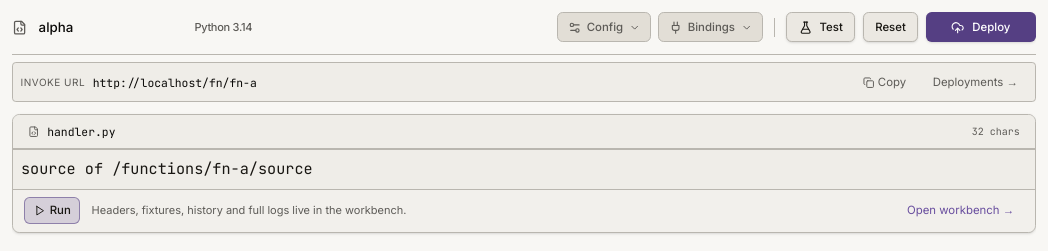
keep-alive route scoping › Editor keeps an unsaved buffer when the route loses :name, and reloads only for a different function
The width and height of the screenshot is (1048, 251).
Click the text "source of /functions/fn-a/source".
click(167, 168)  # box [21,158,313,179]
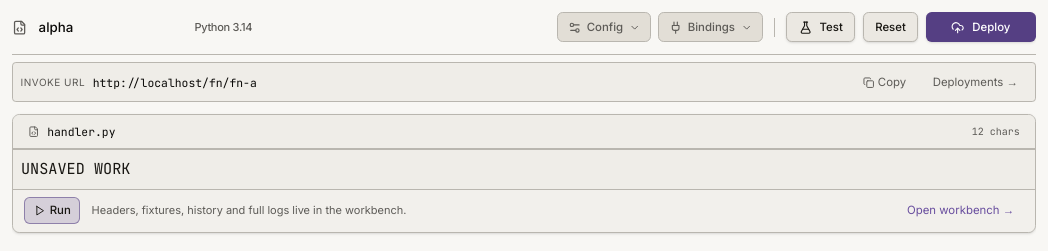
expect the text "UNSAVED WORK" is shown: met, box [21,158,130,179]
